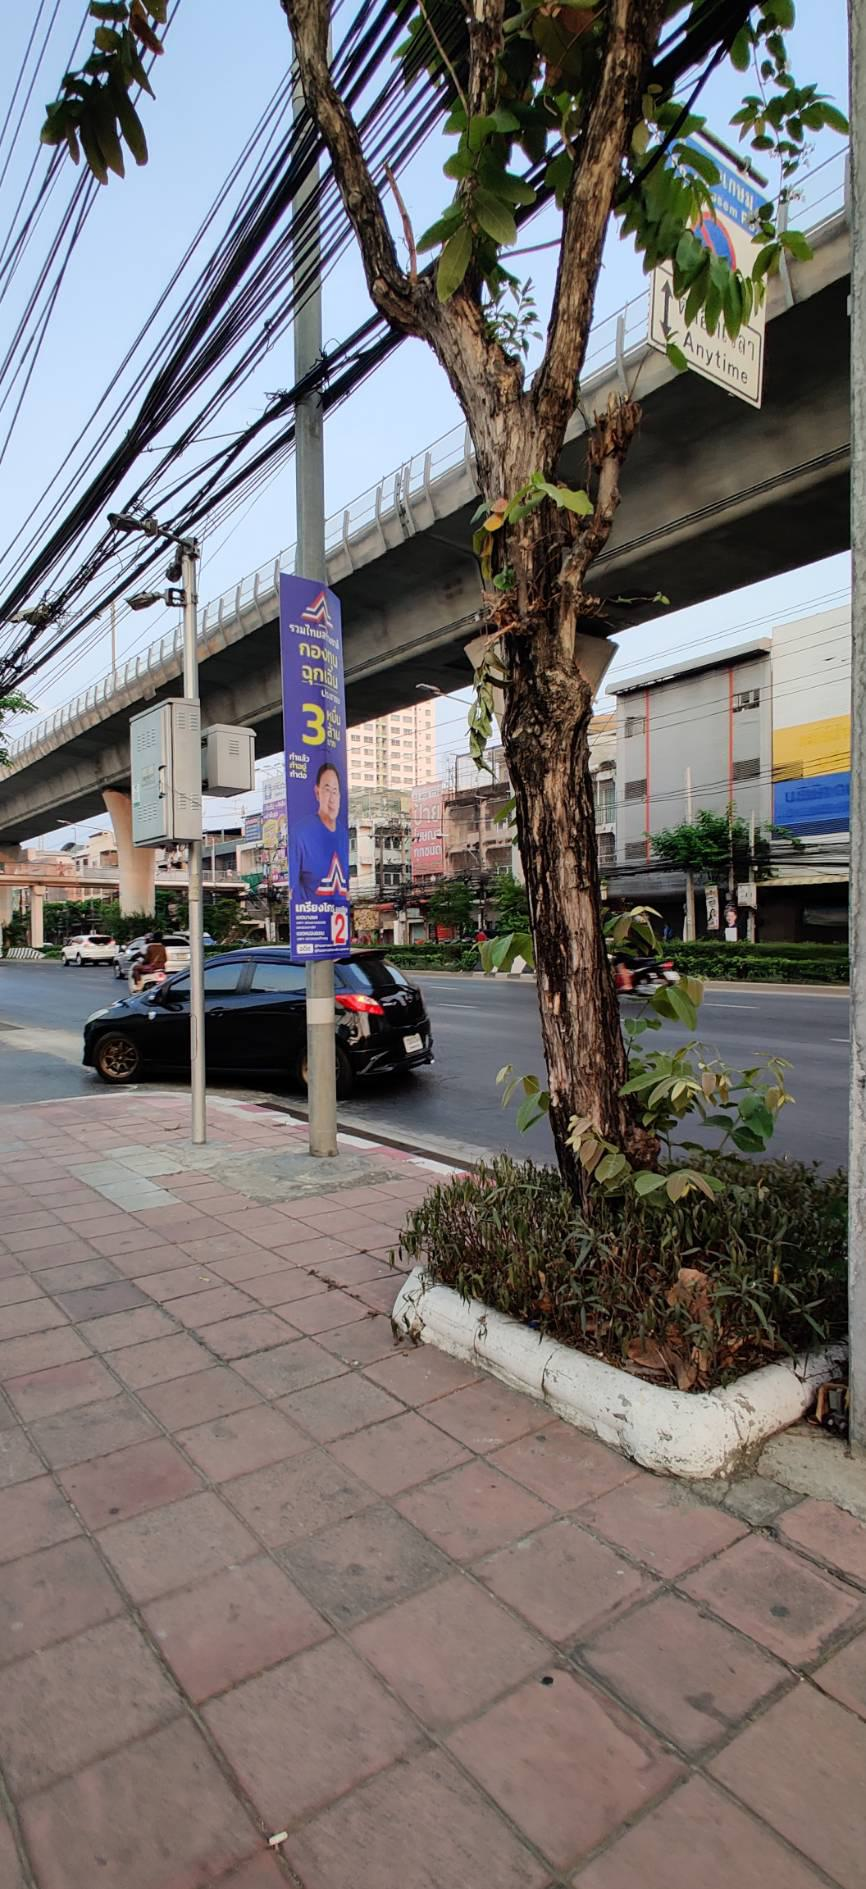Banner: (270, 571, 365, 946)
